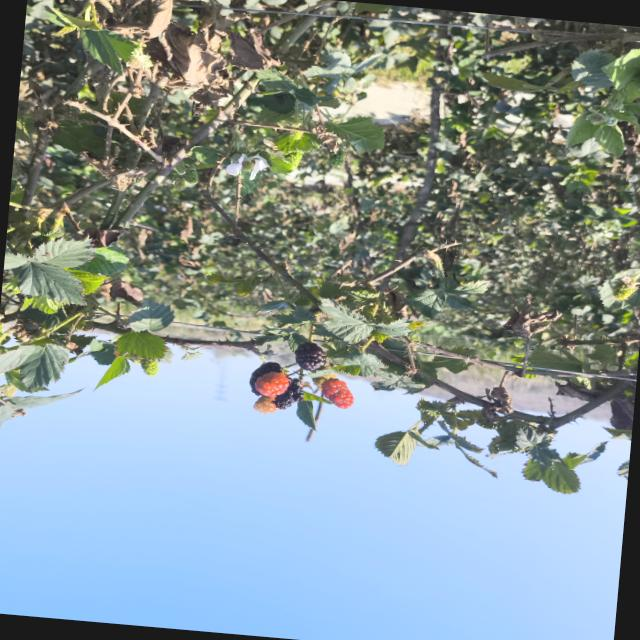maduro: (295, 342, 326, 370)
naranja: (321, 379, 353, 408), (255, 371, 289, 396)
